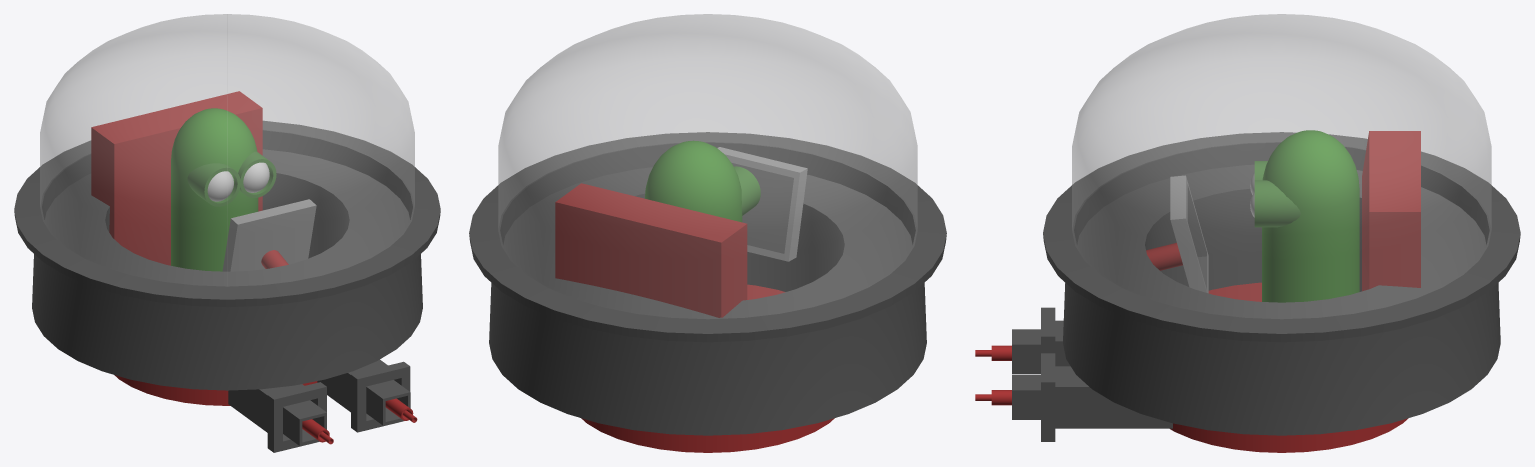
The model's file is Model_Prop_Enemy_UFO.fbx.
The picture shows the model from 3 angles, left to right: view 1: azimuth 30°, elevation 25°; view 2: azimuth 150°, elevation 25°; view 3: azimuth 270°, elevation 25°; orthographic projection. The views are drawn at different scales.
Parts seen in each view (by area): view 1: Enemy; view 2: Enemy; view 3: Enemy.
Boxes of the visible parts, bbox=[...] form: Enemy: bbox=[14, 14, 440, 452]; Enemy: bbox=[469, 14, 946, 452]; Enemy: bbox=[975, 14, 1520, 452].
Bounding box in the file's own units: 175 × 142 × 199.
